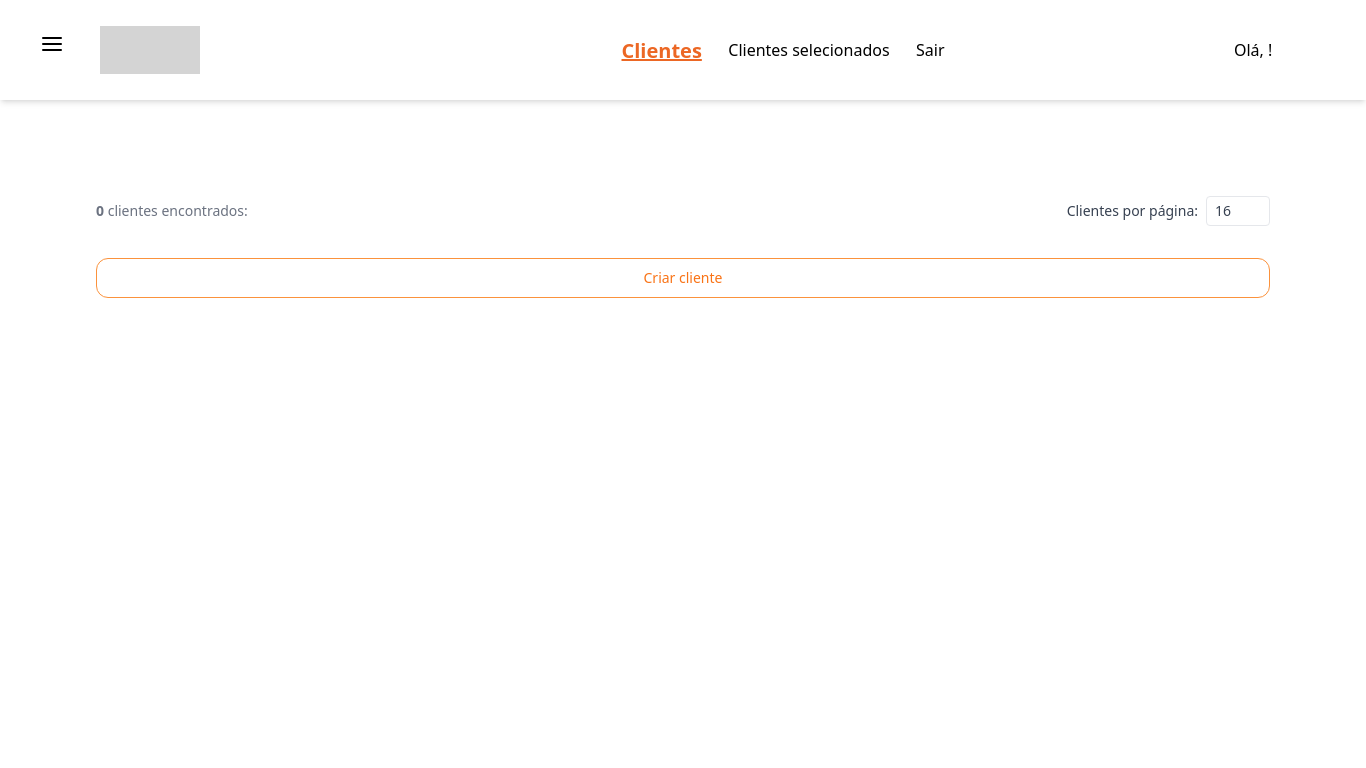
Test: Clientes - E2E › deve abrir o modal de criação de cliente
Step 1. Click the button "Criar cliente" → (683, 278), box [96,258,1270,298]
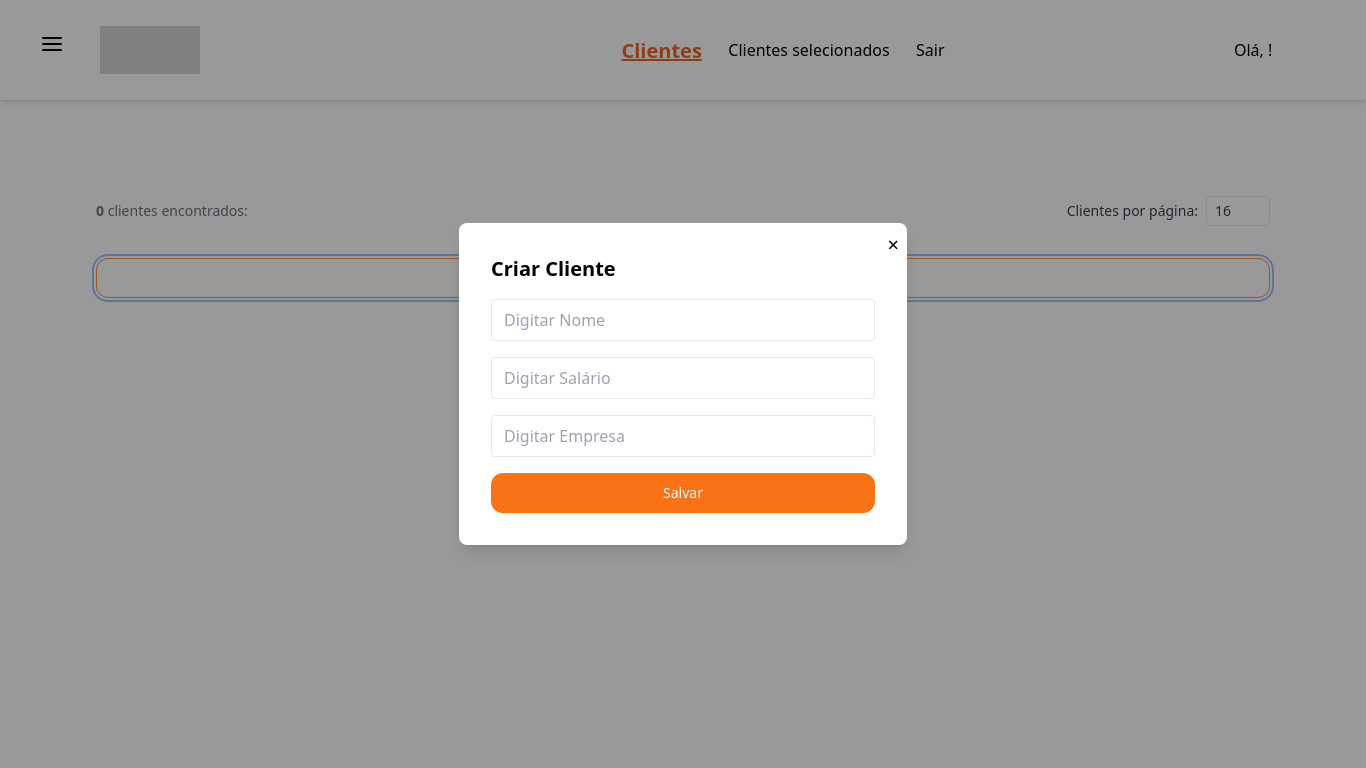
Expected: the heading "Criar Cliente" is shown, [491,255,616,282]
Expected: the field with placeholder "Digitar Nome" is shown, [491,299,875,341]
